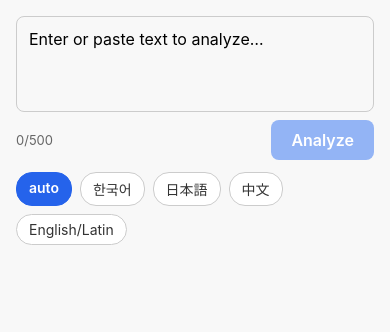
Scenario: HomeScreen error placement (FR-013) › RATE_LIMIT_EXCEEDED shows the wait message
The image size is (390, 332).
Expected: the button "Analyze" is shown, left=271, top=120, right=374, bottom=160
Type "hello" into the text box labelled "text to analyze".
click(195, 64); type("hello")  # box left=16, top=16, right=374, bottom=112
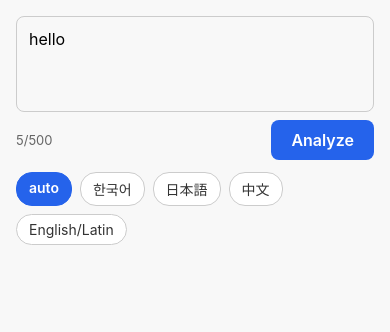
Click the button "Analyze".
click(323, 140)  # box left=271, top=120, right=374, bottom=160
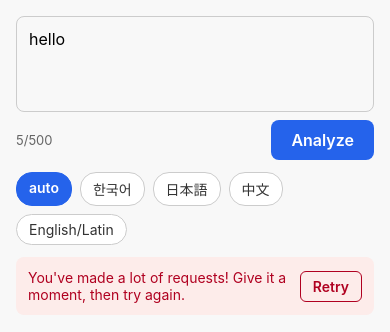
Result: the text "Give it a moment" is shown at left=28, top=269, right=290, bottom=303
